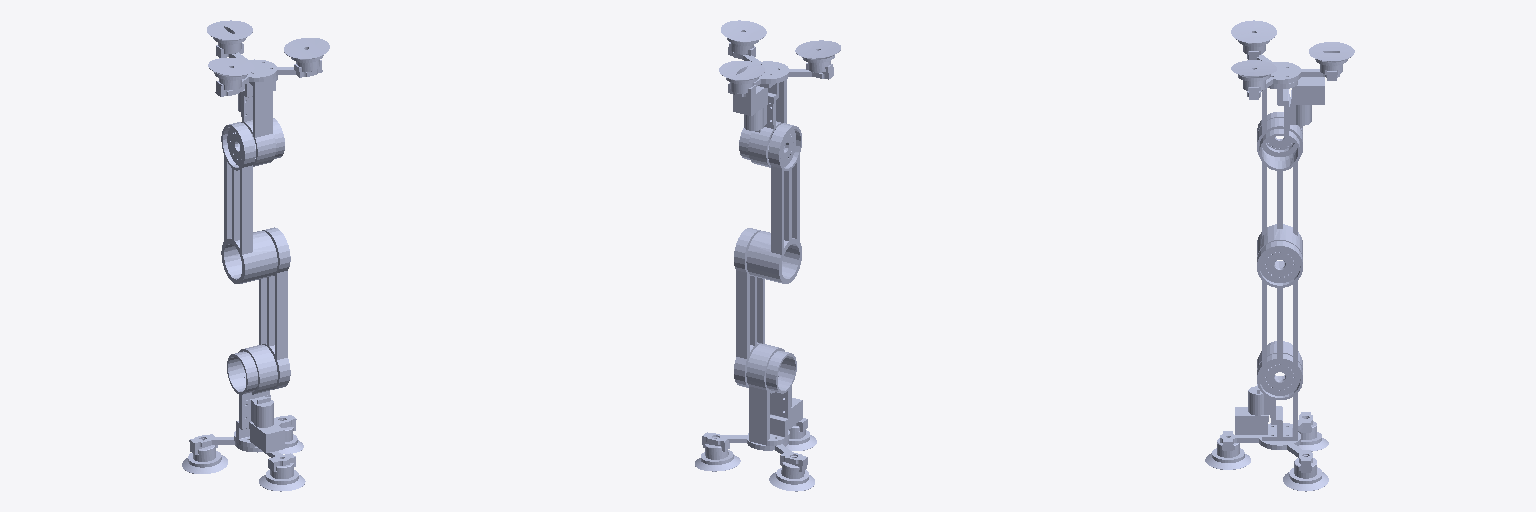
The robot description file, URDF, robot "bigmama0401":
<?xml version="1.0" encoding="utf-8"?>
<!-- This URDF was automatically created by SolidWorks to URDF Exporter! Originally created by [author] ([email redacted]) 
     Commit Version: 1.6.0-1-g15f4949  Build Version: 1.6.7594.29634
     For more information, please see http://wiki.ros.org/sw_urdf_exporter -->
<robot
  name="bigmama0401">
  <link
    name="Link_0">
    <inertial>
      <origin
        xyz="-0.0036007 -0.0088372 0.029242"
        rpy="0 0 0" />
      <mass
        value="0.81093" />
      <inertia
        ixx="0.0014988"
        ixy="-1.2947E-05"
        ixz="1.4235E-05"
        iyy="0.0014451"
        iyz="-7.3423E-06"
        izz="0.0010295" />
    </inertial>
    <visual>
      <origin
        xyz="0 0 0"
        rpy="0 0 0" />
      <geometry>
        <mesh
          filename="package://bigmama0401/meshes/Link_0.STL" />
      </geometry>
      <material
        name="">
        <color
          rgba="0.79216 0.81961 0.93333 1" />
      </material>
    </visual>
    <collision>
      <origin
        xyz="0 0 0"
        rpy="0 0 0" />
      <geometry>
        <mesh
          filename="package://bigmama0401/meshes/Link_0.STL" />
      </geometry>
    </collision>
  </link>
  <link
    name="Link_1">
    <inertial>
      <origin
        xyz="3.1086E-15 0.12 0.014813"
        rpy="0 0 0" />
      <mass
        value="0.28238" />
      <inertia
        ixx="0.0027445"
        ixy="1.3618E-19"
        ixz="-1.819E-21"
        iyy="0.00019508"
        iyz="-9.1226E-21"
        izz="0.0029159" />
    </inertial>
    <visual>
      <origin
        xyz="0 0 0"
        rpy="0 0 0" />
      <geometry>
        <mesh
          filename="package://bigmama0401/meshes/Link_1.STL" />
      </geometry>
      <material
        name="">
        <color
          rgba="0.79216 0.81961 0.93333 1" />
      </material>
    </visual>
    <collision>
      <origin
        xyz="0 0 0"
        rpy="0 0 0" />
      <geometry>
        <mesh
          filename="package://bigmama0401/meshes/Link_1.STL" />
      </geometry>
    </collision>
  </link>
  <joint
    name="Joint_1"
    type="revolute">
    <origin
      xyz="0.022 0 0.155"
      rpy="1.5708 0 1.5708" />
    <parent
      link="Link_0" />
    <child
      link="Link_1" />
    <axis
      xyz="0 0 -1" />
    <limit
      lower="-3.14"
      upper="3.14"
      effort="100"
      velocity="0.25" />
  </joint>
  <link
    name="Link_2">
    <inertial>
      <origin
        xyz="8.2157E-15 0.098184 -0.051898"
        rpy="0 0 0" />
      <mass
        value="0.34516" />
      <inertia
        ixx="0.0036332"
        ixy="3.1442E-18"
        ixz="-4.4392E-19"
        iyy="0.00034405"
        iyz="0.00024115"
        izz="0.0037914" />
    </inertial>
    <visual>
      <origin
        xyz="0 0 0"
        rpy="0 0 0" />
      <geometry>
        <mesh
          filename="package://bigmama0401/meshes/Link_2.STL" />
      </geometry>
      <material
        name="">
        <color
          rgba="0.79216 0.81961 0.93333 1" />
      </material>
    </visual>
    <collision>
      <origin
        xyz="0 0 0"
        rpy="0 0 0" />
      <geometry>
        <mesh
          filename="package://bigmama0401/meshes/Link_2.STL" />
      </geometry>
    </collision>
  </link>
  <joint
    name="Joint_2"
    type="revolute">
    <origin
      xyz="0 0.24 0"
      rpy="0 0 0" />
    <parent
      link="Link_1" />
    <child
      link="Link_2" />
    <axis
      xyz="0 0 -1" />
    <limit
      lower="-3.14"
      upper="3.14"
      effort="100"
      velocity="0.25" />
  </joint>
  <link
    name="Link_3">
    <inertial>
      <origin
        xyz="0.018256 0.077688 0.029219"
        rpy="0 0 0" />
      <mass
        value="0.40524" />
      <inertia
        ixx="0.0010067"
        ixy="-1.0212E-05"
        ixz="-1.2958E-05"
        iyy="0.00027741"
        iyz="1.4235E-05"
        izz="0.0011025" />
    </inertial>
    <visual>
      <origin
        xyz="0 0 0"
        rpy="0 0 0" />
      <geometry>
        <mesh
          filename="package://bigmama0401/meshes/Link_3.STL" />
      </geometry>
      <material
        name="">
        <color
          rgba="0.79216 0.81961 0.93333 1" />
      </material>
    </visual>
    <collision>
      <origin
        xyz="0 0 0"
        rpy="0 0 0" />
      <geometry>
        <mesh
          filename="package://bigmama0401/meshes/Link_3.STL" />
      </geometry>
    </collision>
  </link>
  <joint
    name="Joint_3"
    type="revolute">
    <origin
      xyz="0 0.24 -0.0442"
      rpy="0 0 0" />
    <parent
      link="Link_2" />
    <child
      link="Link_3" />
    <axis
      xyz="0 0 1" />
    <limit
      lower="-3.14"
      upper="3.14"
      effort="100"
      velocity="0.25" />
  </joint>
  <link
    name="Link_4">
    <inertial>
      <origin
        xyz="-0.01848 -1.8063E-05 -0.026214"
        rpy="0 0 0" />
      <mass
        value="0.3443" />
      <inertia
        ixx="0.00040527"
        ixy="1.2985E-08"
        ixz="-2.8556E-06"
        iyy="0.00036433"
        iyz="7.1312E-09"
        izz="0.00070995" />
    </inertial>
    <visual>
      <origin
        xyz="0 0 0"
        rpy="0 0 0" />
      <geometry>
        <mesh
          filename="package://bigmama0401/meshes/Link_4.STL" />
      </geometry>
      <material
        name="">
        <color
          rgba="0.79216 0.81961 0.93333 1" />
      </material>
    </visual>
    <collision>
      <origin
        xyz="0 0 0"
        rpy="0 0 0" />
      <geometry>
        <mesh
          filename="package://bigmama0401/meshes/Link_4.STL" />
      </geometry>
    </collision>
  </link>
  <joint
    name="Joint_4"
    type="revolute">
    <origin
      xyz="0 0.145 0.022"
      rpy="1.5708 0 0" />
    <parent
      link="Link_3" />
    <child
      link="Link_4" />
    <axis
      xyz="0 0 -1" />
    <limit
      lower="-1E-05"
      upper="1E-05"
      effort="1E-05"
      velocity="1E-05" />
  </joint>
  <link
    name="Link_exterfinger">
    <inertial>
      <origin
        xyz="0.016755 -5.9581E-09 -0.0084274"
        rpy="0 0 0" />
      <mass
        value="0.029014" />
      <inertia
        ixx="1.065E-05"
        ixy="1.6581E-11"
        ixz="2.8606E-07"
        iyy="3.3212E-06"
        iyz="-5.7234E-13"
        izz="1.267E-05" />
    </inertial>
    <visual>
      <origin
        xyz="0 0 0"
        rpy="0 0 0" />
      <geometry>
        <mesh
          filename="package://bigmama0401/meshes/Link_exterfinger.STL" />
      </geometry>
      <material
        name="">
        <color
          rgba="0.79216 0.81961 0.93333 1" />
      </material>
    </visual>
    <collision>
      <origin
        xyz="0 0 0"
        rpy="0 0 0" />
      <geometry>
        <mesh
          filename="package://bigmama0401/meshes/Link_exterfinger.STL" />
      </geometry>
    </collision>
  </link>
  <joint
    name="Joint_exterfinger"
    type="prismatic">
    <origin
      xyz="0.1 0 -0.035"
      rpy="0 0 1.5708" />
    <parent
      link="Link_4" />
    <child
      link="Link_exterfinger" />
    <axis
      xyz="1 0 0" />
    <limit
      lower="-0.01"
      upper="0.01"
      effort="500"
      velocity="0.001" />
  </joint>
  <link
    name="Link_innerfinger">
    <inertial>
      <origin
        xyz="-0.016755 5.9581E-09 -0.0084274"
        rpy="0 0 0" />
      <mass
        value="0.029014" />
      <inertia
        ixx="1.065E-05"
        ixy="1.6581E-11"
        ixz="-2.8606E-07"
        iyy="3.3212E-06"
        iyz="5.7234E-13"
        izz="1.267E-05" />
    </inertial>
    <visual>
      <origin
        xyz="0 0 0"
        rpy="0 0 0" />
      <geometry>
        <mesh
          filename="package://bigmama0401/meshes/Link_innerfinger.STL" />
      </geometry>
      <material
        name="">
        <color
          rgba="0.79216 0.81961 0.93333 1" />
      </material>
    </visual>
    <collision>
      <origin
        xyz="0 0 0"
        rpy="0 0 0" />
      <geometry>
        <mesh
          filename="package://bigmama0401/meshes/Link_innerfinger.STL" />
      </geometry>
    </collision>
  </link>
  <joint
    name="Joint_innerfinger"
    type="prismatic">
    <origin
      xyz="0.1 0 -0.035"
      rpy="0 0 1.5708" />
    <parent
      link="Link_4" />
    <child
      link="Link_innerfinger" />
    <axis
      xyz="-1 0 0" />
    <limit
      lower="-0.01"
      upper="0.01"
      effort="500"
      velocity="0.001" />
  </joint>
</robot>

--- Facts derived from the render (not from the file) ---
Views: 3 orthographic renders of the robot side by side, from view 1: azimuth 30°, elevation 25°; view 2: azimuth 150°, elevation 25°; view 3: azimuth 270°, elevation 25°.
Robot: bigmama0401 — 7 links, 6 joints (4 revolute, 2 prismatic); root link Link_0; default pose: every joint at zero.
Links seen in each view (by area): view 1: Link_0, Link_2, Link_4, Link_1, Link_3; view 2: Link_0, Link_2, Link_4, Link_1, Link_3; view 3: Link_0, Link_1, Link_3, Link_4, Link_2.
Link boxes in pixels (left/top/right/bottom): Link_0: left=182, top=344, right=305, bottom=491; Link_2: left=221, top=122, right=277, bottom=283; Link_4: left=208, top=38, right=329, bottom=96; Link_1: left=259, top=227, right=290, bottom=389; Link_3: left=238, top=75, right=284, bottom=166; Link_0: left=695, top=344, right=816, bottom=491; Link_2: left=746, top=123, right=801, bottom=283; Link_4: left=721, top=20, right=840, bottom=98; Link_1: left=734, top=228, right=764, bottom=387; Link_3: left=733, top=80, right=786, bottom=167; Link_0: left=1205, top=341, right=1328, bottom=491; Link_1: left=1257, top=241, right=1302, bottom=399; Link_3: left=1257, top=77, right=1324, bottom=170; Link_4: left=1231, top=20, right=1342, bottom=99; Link_2: left=1257, top=112, right=1302, bottom=267.
Bounding box of the posed robot: 0.2553 × 0.289 × 0.8854 m (x, y, z).
7 mesh visuals loaded from 7 distinct referenced files (7 binary STL).
